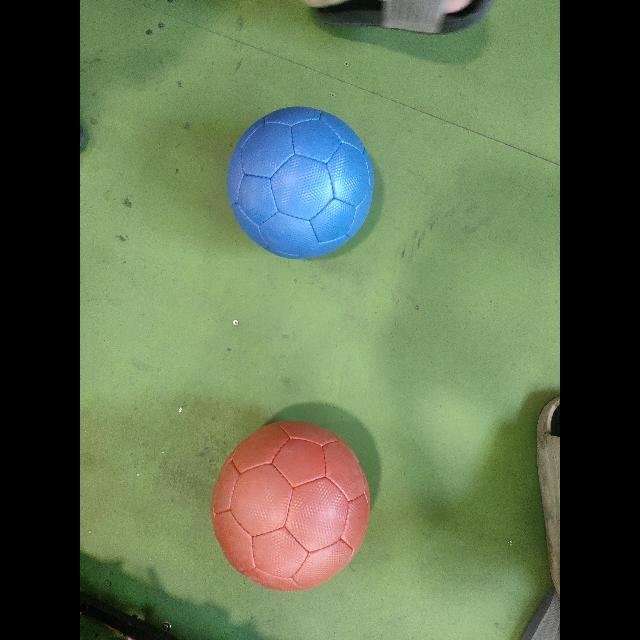B: (225, 108, 381, 262)
R: (210, 421, 372, 591)
